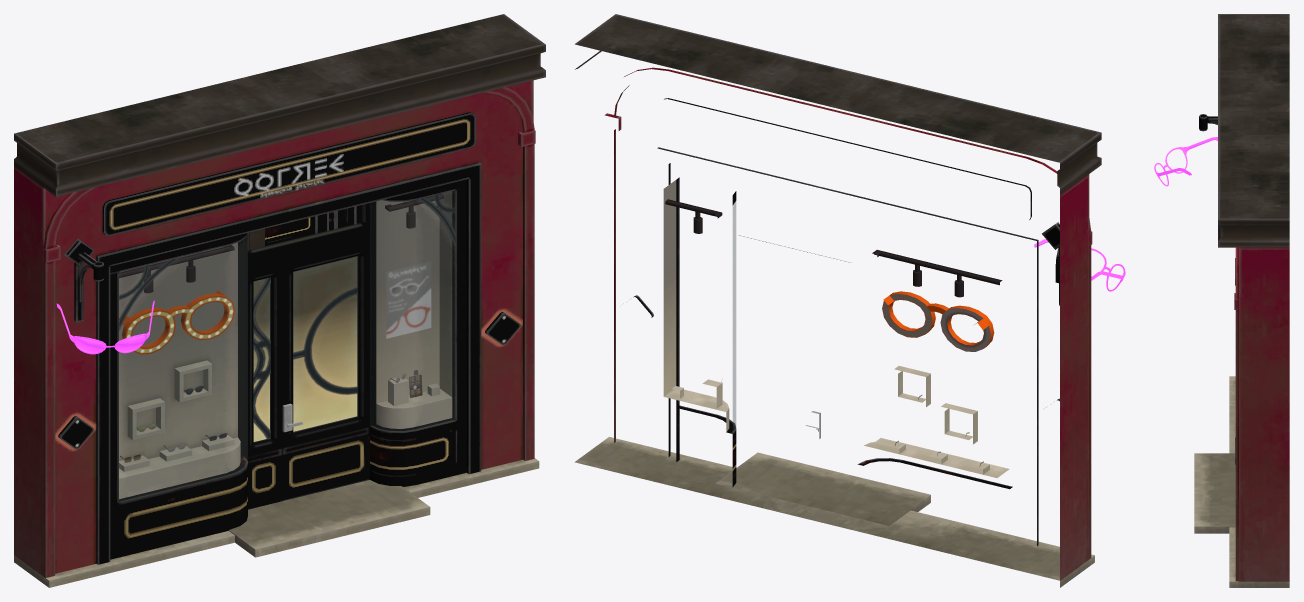
File: t1_b_boutique5.glb
3 renders of one model, left to right at view 1: azimuth 30°, elevation 25°; view 2: azimuth 150°, elevation 25°; view 3: azimuth 270°, elevation 25°, orthographic. The views are drawn at different scales.
Visible parts, largest first — view 1: nomerge_t1_b_boutique5_model_mesh; view 2: nomerge_t1_b_boutique5_model_mesh; view 3: nomerge_t1_b_boutique5_model_mesh.
Boxes of the visible parts, x1,y1,x2,y2 form: nomerge_t1_b_boutique5_model_mesh: (14, 14, 545, 587); nomerge_t1_b_boutique5_model_mesh: (574, 14, 1125, 587); nomerge_t1_b_boutique5_model_mesh: (1154, 14, 1289, 587).
Size of the model in its own units: 5.55 by 4.6 by 1.53.
Materials: 4 (3 with a texture image).
